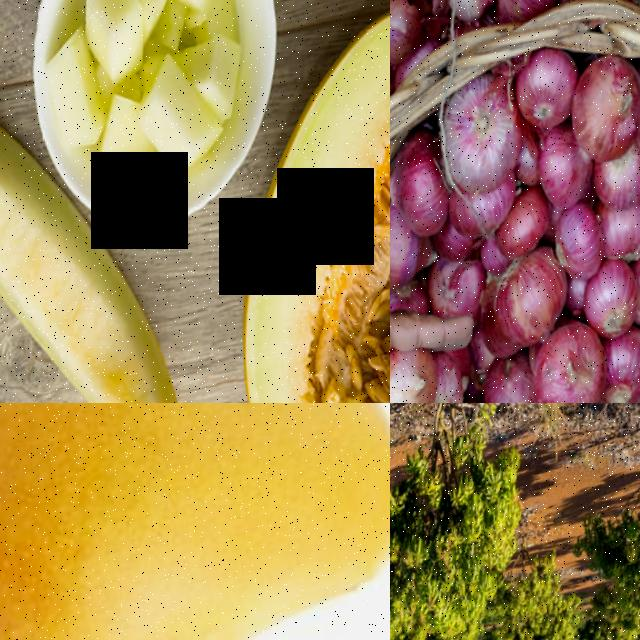mango: (0, 403, 390, 640)
melon: (250, 0, 390, 403), (29, 229, 220, 403), (0, 48, 80, 329)
onion: (432, 84, 536, 204), (492, 253, 586, 358), (567, 48, 640, 174), (390, 130, 460, 244), (528, 323, 621, 403), (513, 51, 586, 135), (537, 127, 597, 217), (555, 206, 618, 289), (587, 262, 640, 342), (390, 341, 451, 403), (601, 333, 640, 403), (605, 204, 640, 268)
